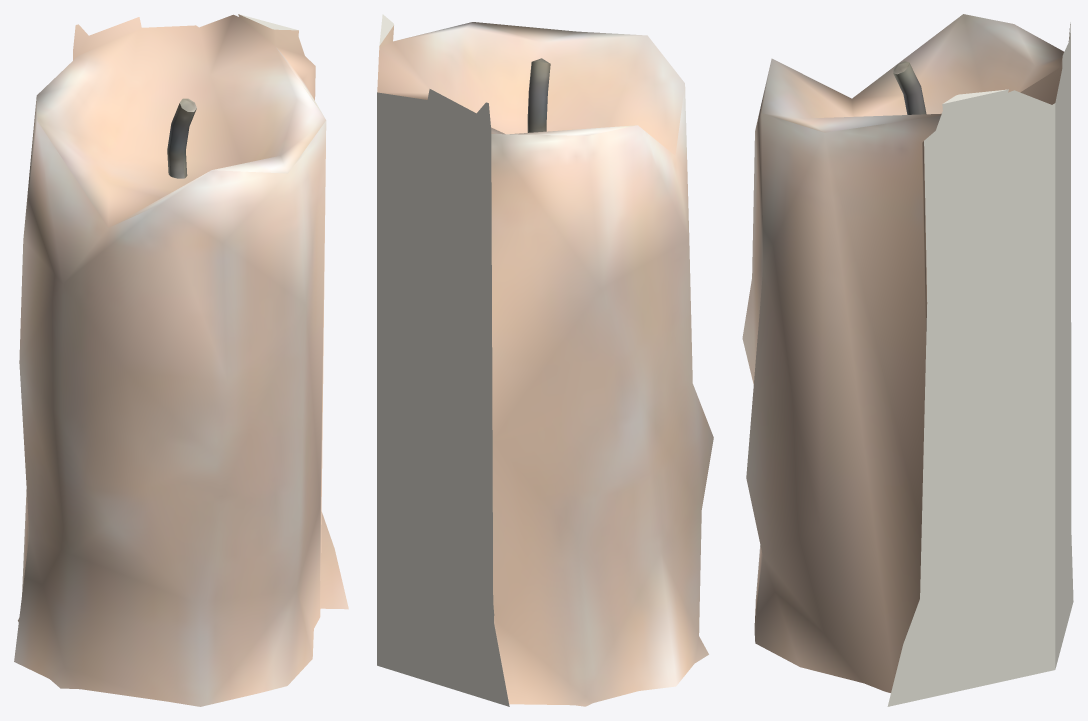
The model's file is festival-candle.glb.
3 views of the same model, side by side, from view 1: azimuth 30°, elevation 25°; view 2: azimuth 150°, elevation 25°; view 3: azimuth 270°, elevation 25° (orthographic). The views are drawn at different scales.
Visible parts, largest first — view 1: complete-source-short-candle; view 2: complete-source-short-candle; view 3: complete-source-short-candle.
Part boxes in pixels (x1=…): complete-source-short-candle: x1=14, y1=14, x2=348, y2=706; complete-source-short-candle: x1=377, y1=14, x2=713, y2=706; complete-source-short-candle: x1=742, y1=14, x2=1073, y2=706.
Size of the model in its own units: 0.2258 by 0.4 by 0.2031.
1 material, 1 textured.
